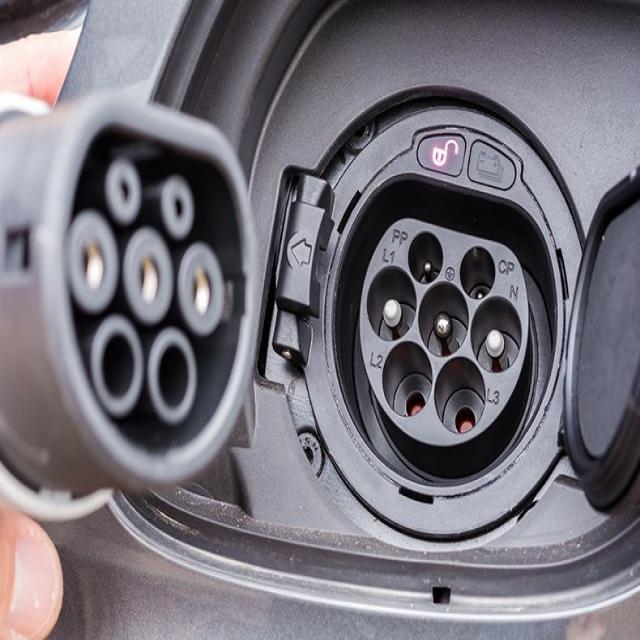Type 2: (356, 214, 534, 456)
